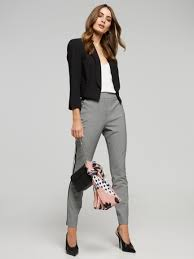F_W_pants: (61, 90, 136, 233)
F_W_suit jacket: (63, 33, 128, 111)
